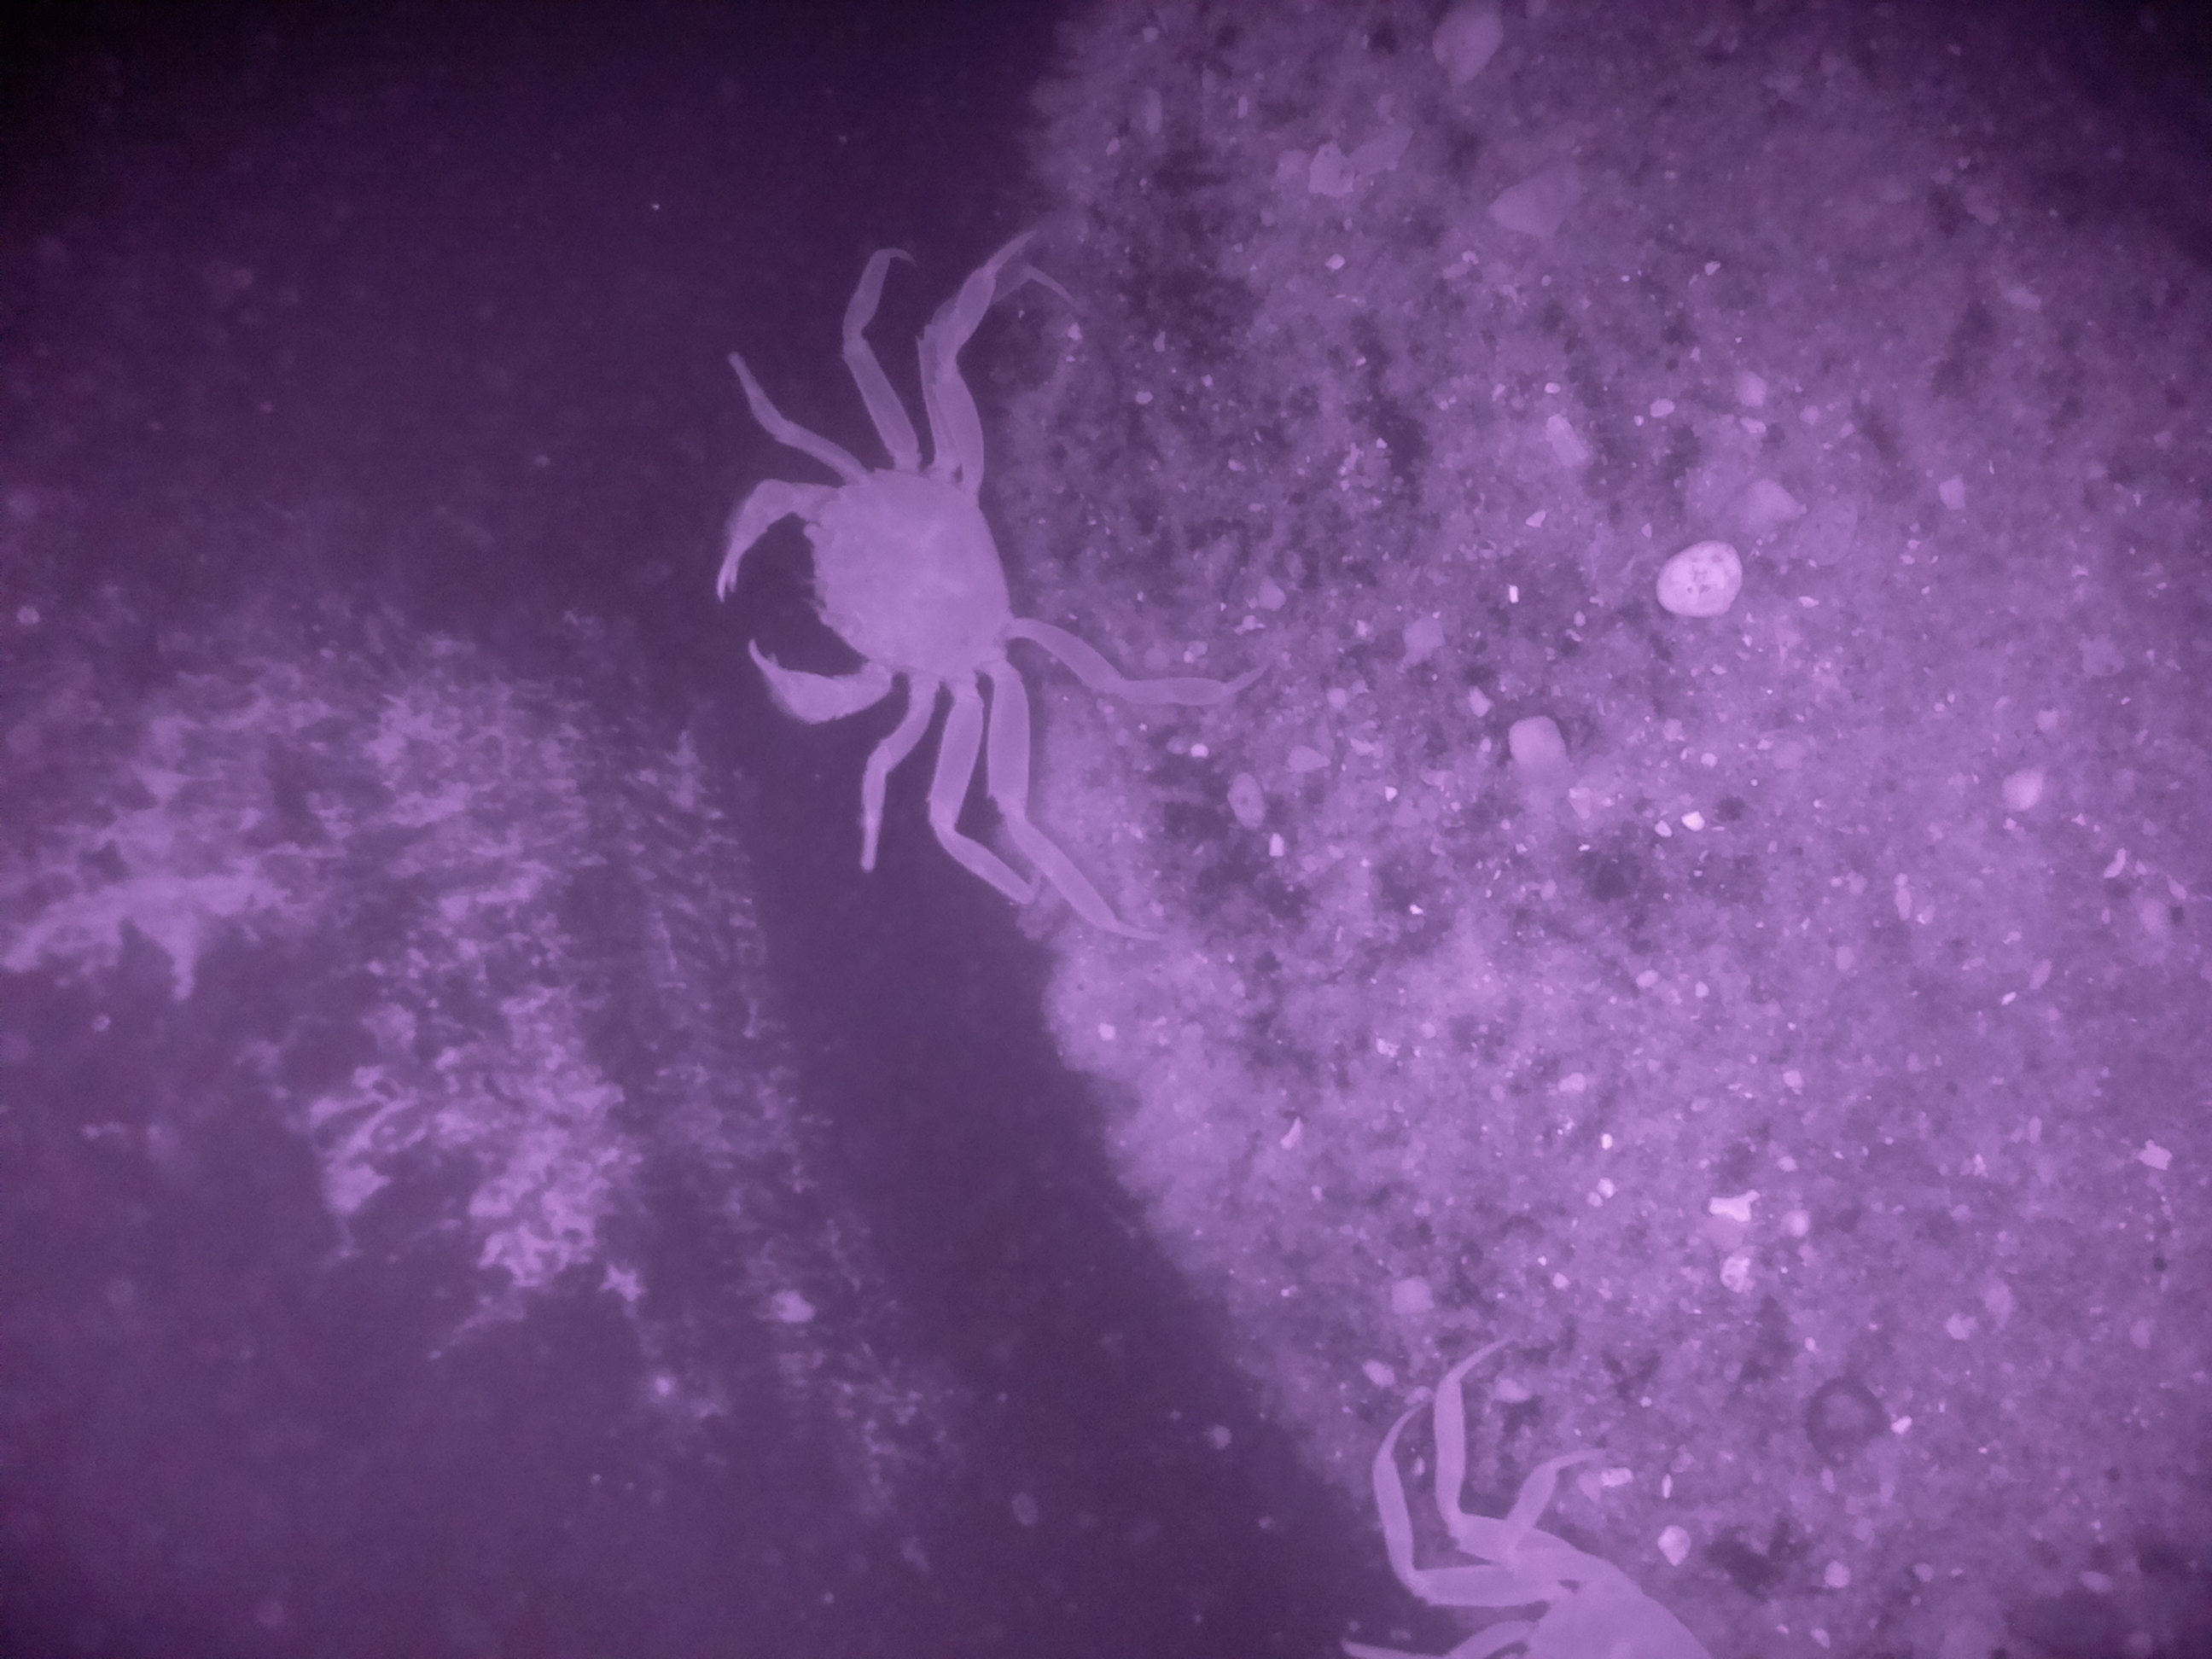Crab: (664, 324, 1191, 854)
